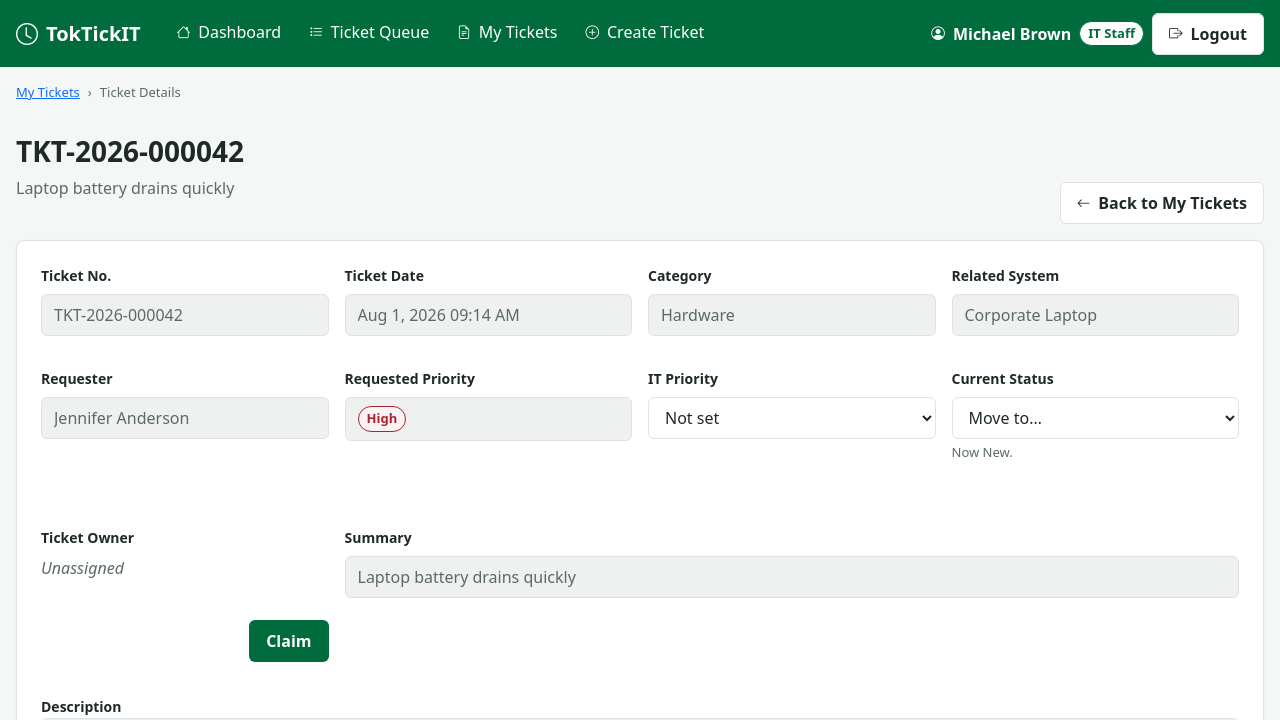
Test case: UI-16 only permitted transitions are offered › sends the chosen status and redraws from the response
Select "Open" in the dropdown labelled "Current Status" at [1095, 418], box [952, 397, 1239, 439]
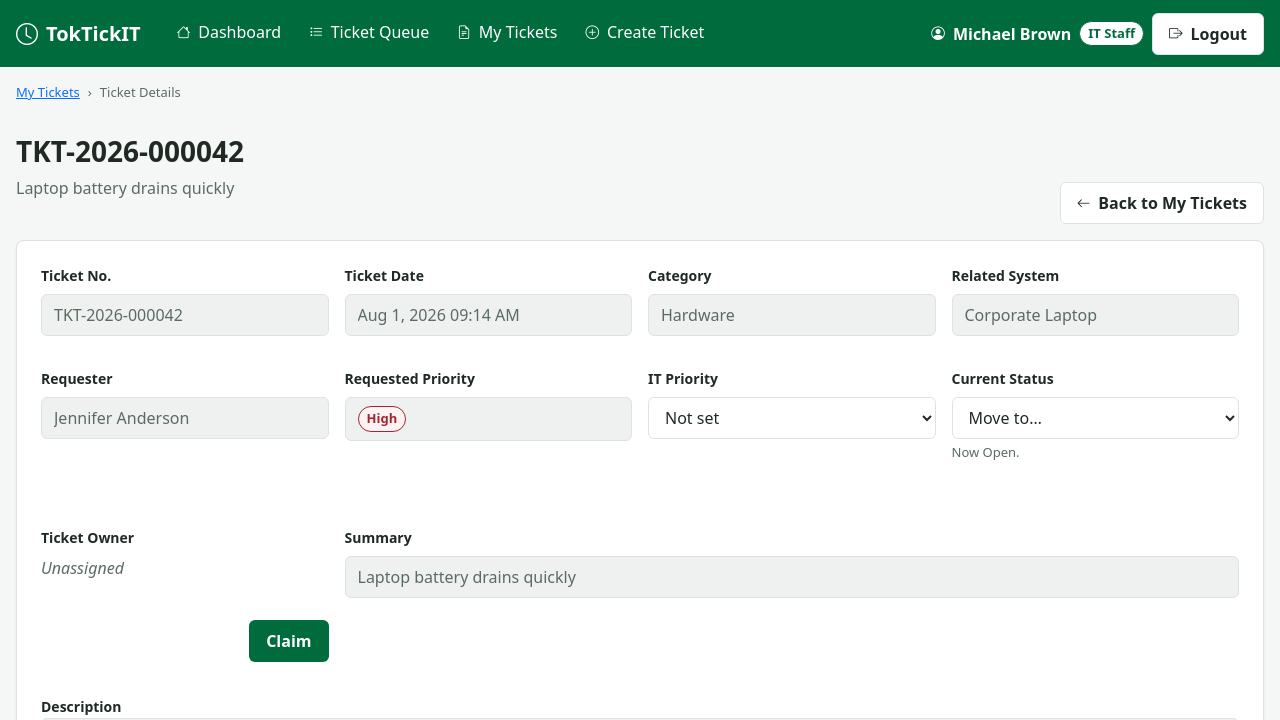
Now the text "Now Open." is shown, box [952, 443, 1020, 461]
